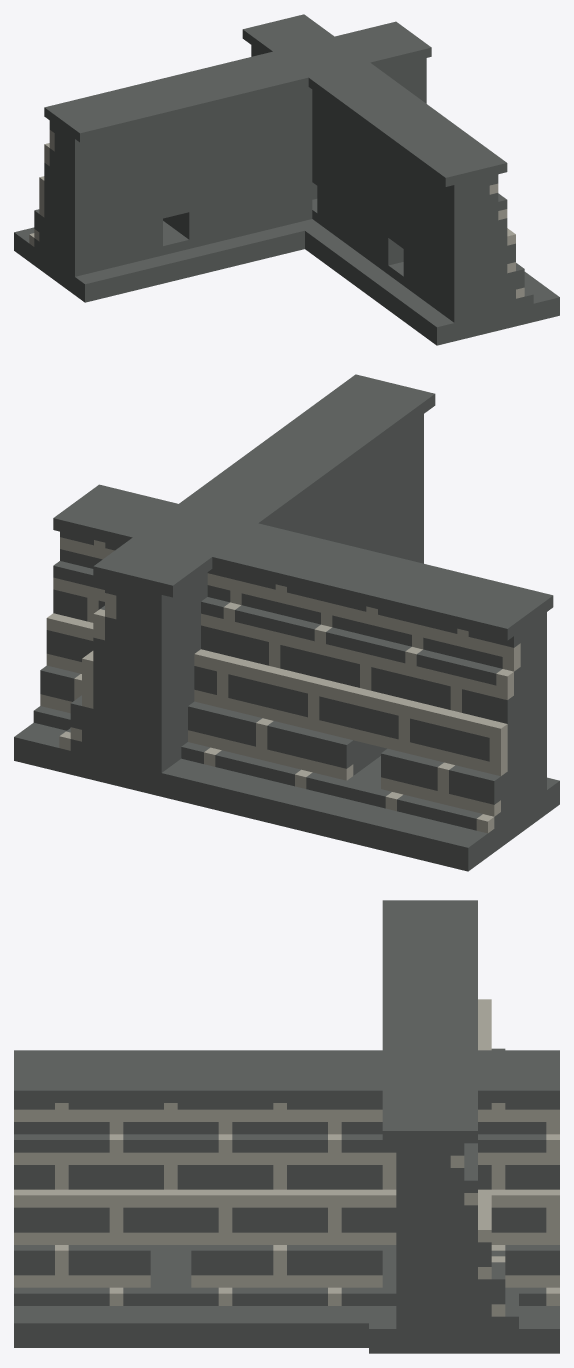
Rendered from visual-far.glb.
3 views of the same model, one above another, from view 1: azimuth 30°, elevation 25°; view 2: azimuth 150°, elevation 25°; view 3: azimuth 270°, elevation 25° (orthographic). The views are drawn at different scales.
Parts seen in each view (by area): view 1: 挡墙转角高差与端头族; view 2: 挡墙转角高差与端头族; view 3: 挡墙转角高差与端头族.
Boxes of the visible parts, <box> form: 挡墙转角高差与端头族: <box>14,14,559,345</box>; 挡墙转角高差与端头族: <box>14,374,559,871</box>; 挡墙转角高差与端头族: <box>14,900,559,1353</box>.
Bounding box in the file's own units: 8 × 3.6 × 8.
2 materials, 2 textured.
